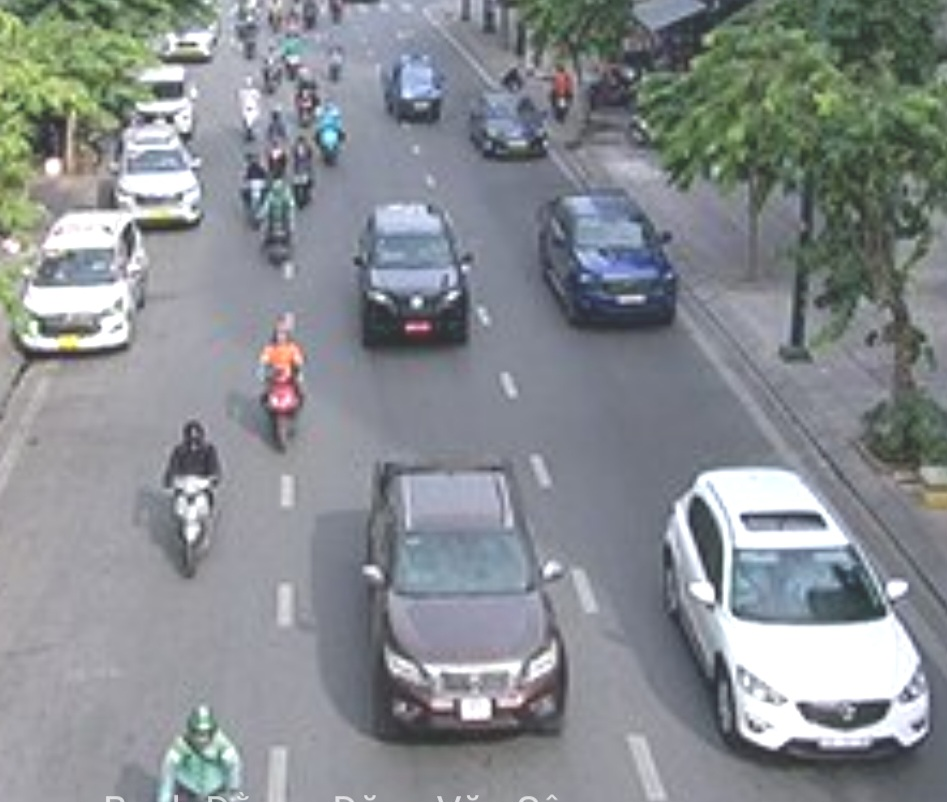car: (662, 470, 931, 759), (367, 451, 565, 735), (534, 194, 676, 331), (15, 217, 146, 360), (358, 208, 469, 344), (108, 128, 208, 228), (472, 91, 548, 162), (126, 65, 201, 136)
